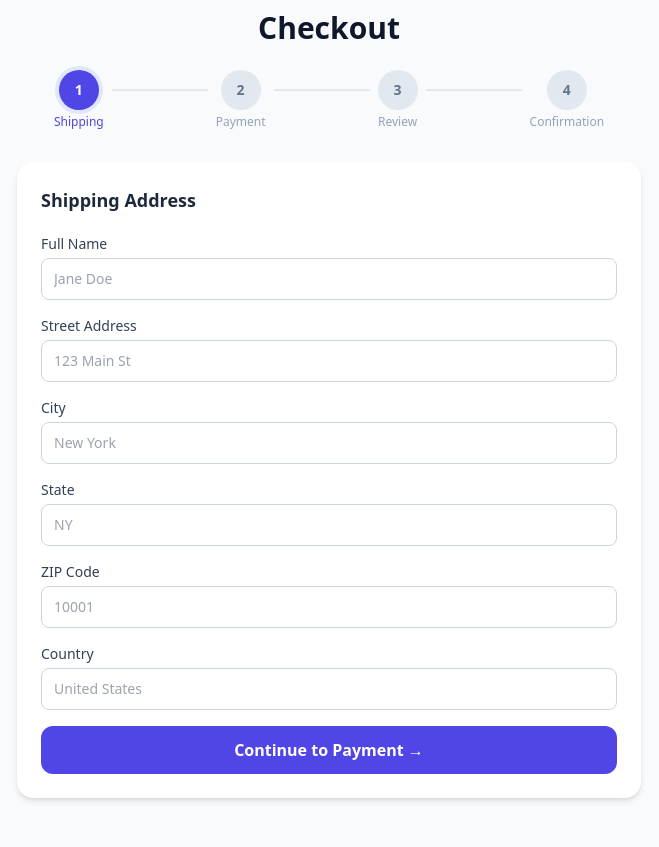
it: CheckoutPage › shows shipping validation errors when the form is submitted blank
The image size is (659, 847).
Step 1. Click the button "Continue to Payment →" → (329, 750), box left=41, top=726, right=617, bottom=774
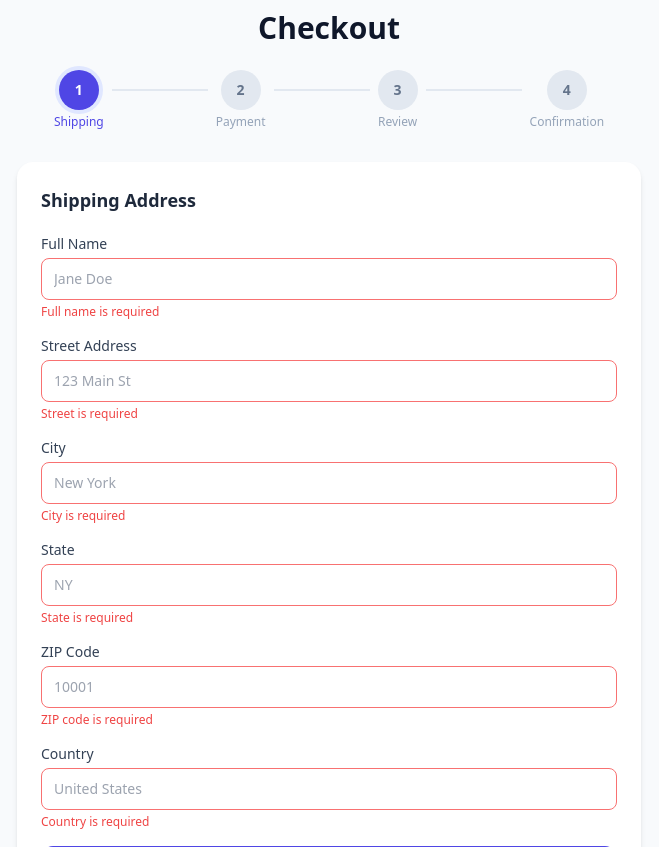
Expected: the text "Full name is required" is shown, left=41, top=303, right=159, bottom=320
Expected: the text "Street is required" is shown, left=41, top=405, right=138, bottom=422
